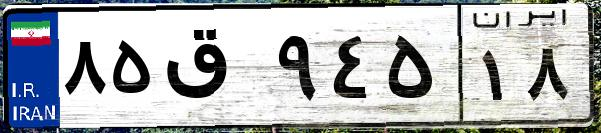1: (475, 38, 525, 113)
4: (330, 28, 385, 110)
5: (385, 28, 445, 110), (110, 28, 158, 98)
8: (57, 26, 110, 100), (525, 38, 570, 115)
9: (270, 28, 330, 110)
ق: (158, 20, 270, 120)
